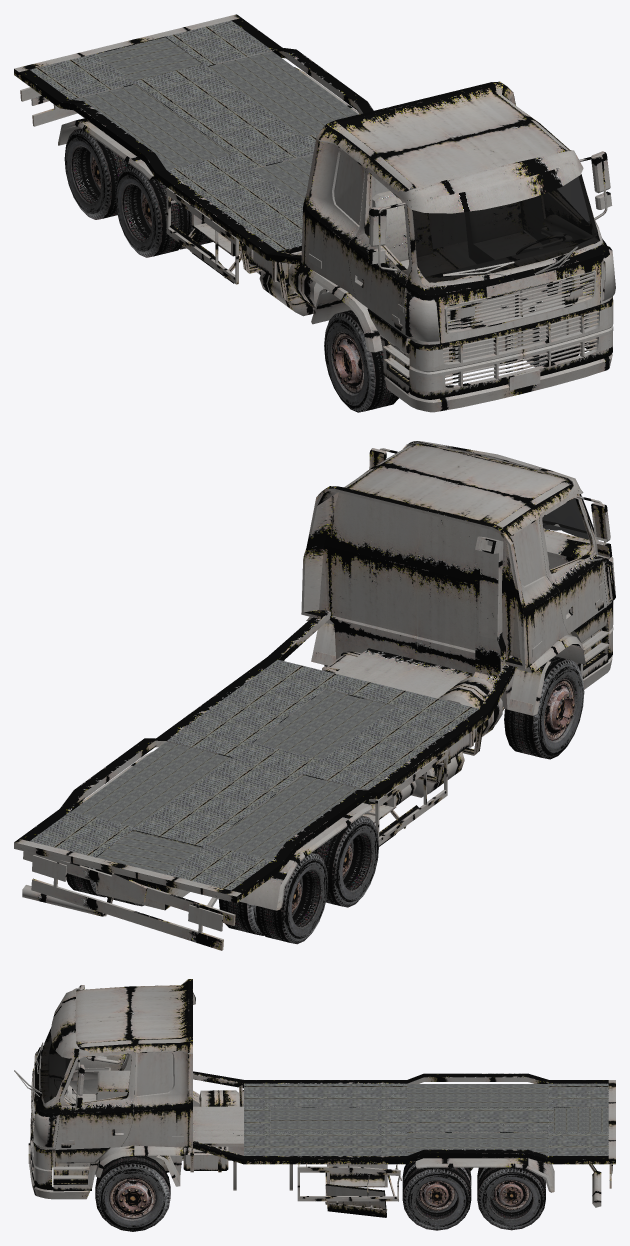
File: flatbed.glb
3 renders of one model, top to bottom at view 1: azimuth 30°, elevation 25°; view 2: azimuth 150°, elevation 25°; view 3: azimuth 270°, elevation 25°, orthographic. The views are drawn at different scales.
Parts seen in each view (by area): view 1: Car_Body_Mat_Truck_Paint_0, Car_Body_Mat_Grating_Solid_0, Car_Body_Mat_Grating_0, Car_Body_Mat_Truck_Glass_0, RF_Wheel_Mat_Truck_Wheels_0, RB_Wheel_Mat_Truck_Wheels_0, RB_Wheel1_Mat_Truck_Wheels_0; view 2: Car_Body_Mat_Truck_Paint_0, Car_Body_Mat_Grating_Solid_0, Car_Body_Mat_Grating_0, RF_Wheel_Mat_Truck_Wheels_0, RB_Wheel1_Mat_Truck_Wheels_0, RB_Wheel_Mat_Truck_Wheels_0, Car_Body_Mat_Truck_Glass_0; view 3: Car_Body_Mat_Truck_Paint_0, Car_Body_Mat_Grating_Solid_0, Car_Body_Mat_Grating_0, LF_Wheel_Mat_Truck_Wheels_0, LB_Wheel_Mat_Truck_Wheels_0, LB_Wheel1_Mat_Truck_Wheels_0, Car_Body_Mat_Truck_Glass_0.
Boxes of the visible parts, <box> form: Car_Body_Mat_Truck_Paint_0: <box>14,14,615,412</box>; Car_Body_Mat_Grating_Solid_0: <box>30,20,318,251</box>; Car_Body_Mat_Grating_0: <box>72,37,358,205</box>; Car_Body_Mat_Truck_Glass_0: <box>412,174,600,282</box>; RF_Wheel_Mat_Truck_Wheels_0: <box>324,310,398,412</box>; RB_Wheel_Mat_Truck_Wheels_0: <box>115,166,212,257</box>; RB_Wheel1_Mat_Truck_Wheels_0: <box>64,128,131,219</box>; Car_Body_Mat_Truck_Paint_0: <box>14,441,615,950</box>; Car_Body_Mat_Grating_Solid_0: <box>30,659,479,890</box>; Car_Body_Mat_Grating_0: <box>71,689,394,874</box>; RF_Wheel_Mat_Truck_Wheels_0: <box>504,656,584,759</box>; RB_Wheel1_Mat_Truck_Wheels_0: <box>218,852,328,944</box>; RB_Wheel_Mat_Truck_Wheels_0: <box>312,816,378,907</box>; Car_Body_Mat_Truck_Glass_0: <box>542,494,594,539</box>; Car_Body_Mat_Truck_Paint_0: <box>14,979,615,1217</box>; Car_Body_Mat_Grating_Solid_0: <box>244,1083,608,1155</box>; Car_Body_Mat_Grating_0: <box>270,1084,608,1155</box>; LF_Wheel_Mat_Truck_Wheels_0: <box>95,1155,170,1231</box>; LB_Wheel_Mat_Truck_Wheels_0: <box>402,1161,471,1230</box>; LB_Wheel1_Mat_Truck_Wheels_0: <box>477,1167,545,1230</box>; Car_Body_Mat_Truck_Glass_0: <box>40,1027,71,1103</box>.
Bounding box in the file's own units: 8.87 × 8.85 × 26.02.
5 materials, 4 textured.
